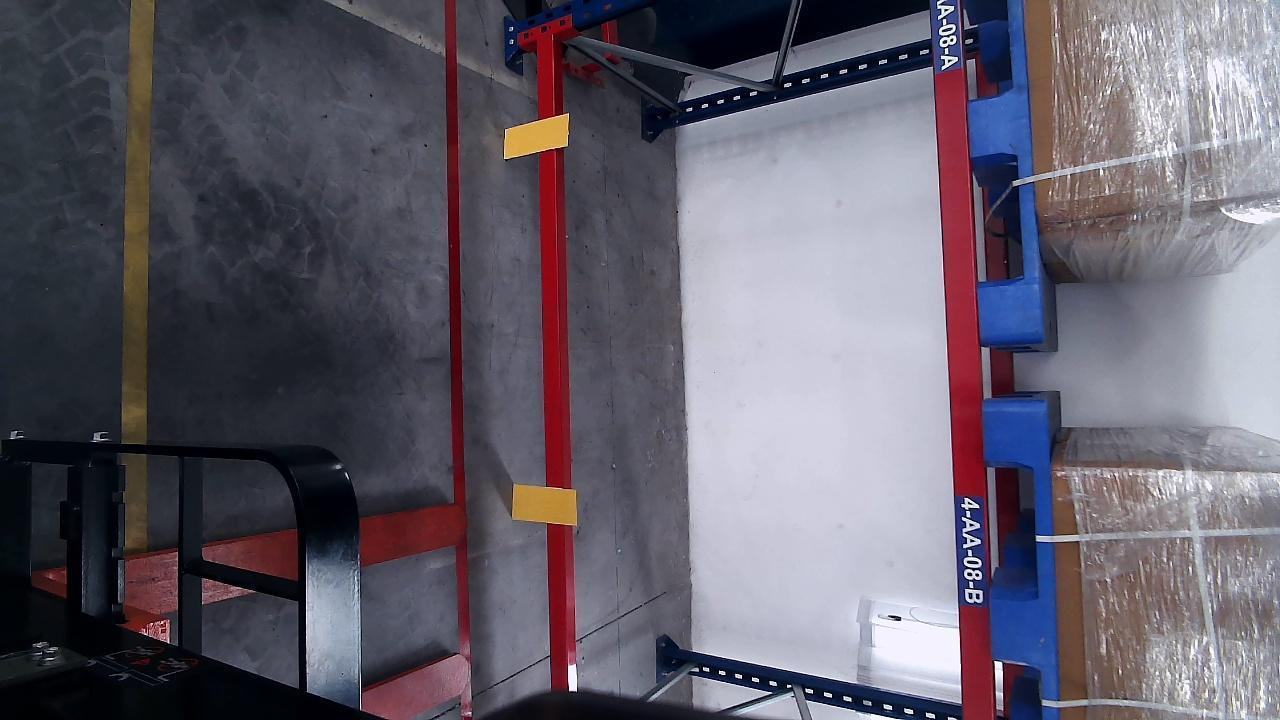red_line: (443, 2, 475, 720)
yellow_line: (115, 0, 163, 440)
